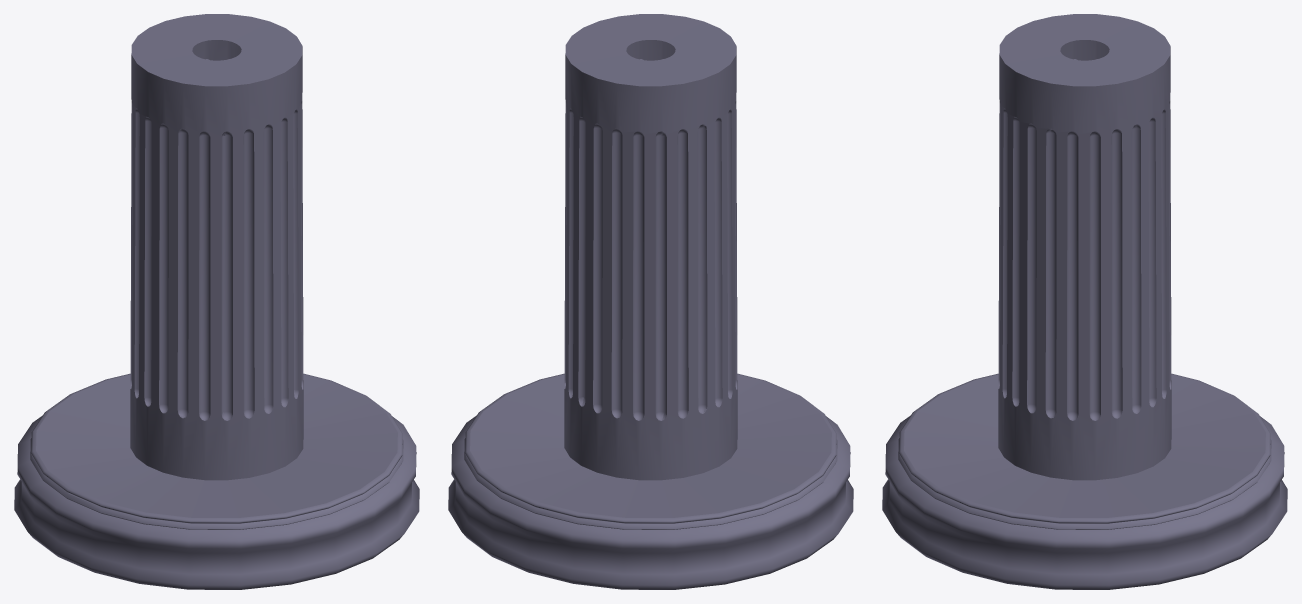
File: wheelBottomPiece.fbx
3 views of the same model, side by side, from view 1: azimuth 30°, elevation 25°; view 2: azimuth 150°, elevation 25°; view 3: azimuth 270°, elevation 25° (orthographic).
Parts seen in each view (by area): view 1: wheelBottomPiece; view 2: wheelBottomPiece; view 3: wheelBottomPiece.
Part boxes in pixels (x1=…): wheelBottomPiece: x1=14, y1=14, x2=419, y2=589; wheelBottomPiece: x1=448, y1=14, x2=853, y2=589; wheelBottomPiece: x1=882, y1=14, x2=1287, y2=589.
Size of the model in its own units: 237 by 294 by 237.
